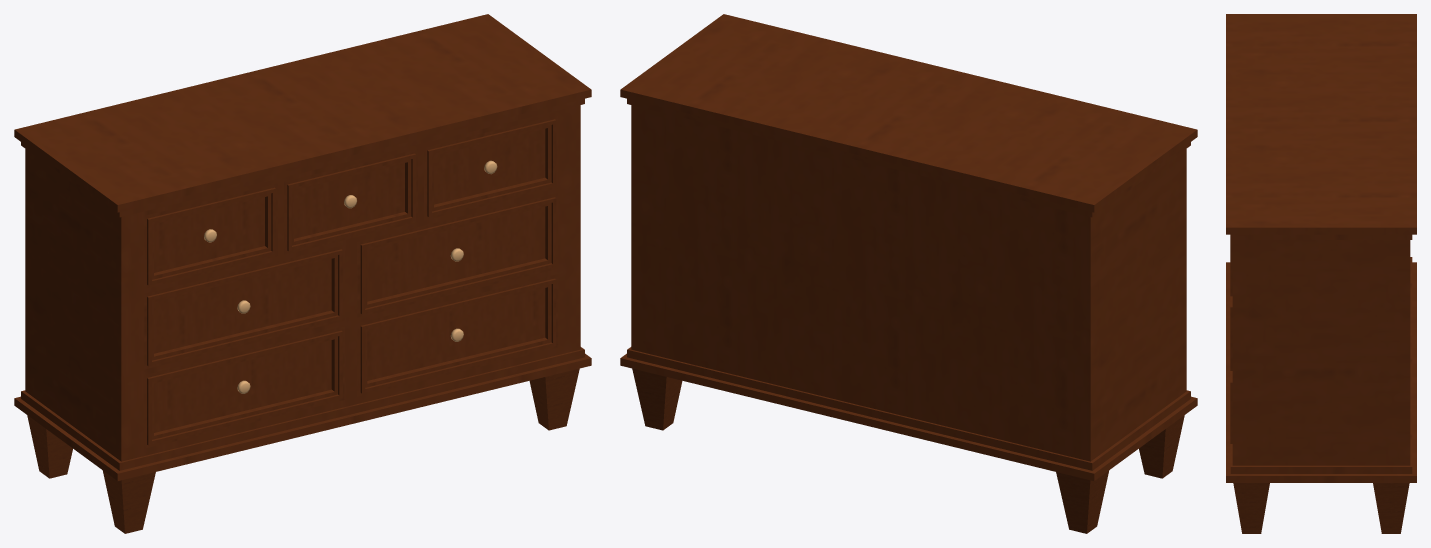
The model's file is Drawer40.fbx.
3 renders of one model, left to right at view 1: azimuth 30°, elevation 25°; view 2: azimuth 150°, elevation 25°; view 3: azimuth 270°, elevation 25°, orthographic. The views are drawn at different scales.
Visible parts, largest first — view 1: Drawer40_Body, Drawer40_4, Drawer40_5, Drawer40_6, Drawer40_7, Drawer40_3, Drawer40_1, Drawer40_2; view 2: Drawer40_Body; view 3: Drawer40_Body.
Boxes of the visible parts, box(x1,y1,x2,y2) form: Drawer40_Body: box(14, 14, 591, 533); Drawer40_4: box(143, 245, 344, 369); Drawer40_5: box(357, 193, 558, 317); Drawer40_6: box(143, 326, 344, 448); Drawer40_7: box(357, 274, 558, 396); Drawer40_3: box(424, 115, 558, 220); Drawer40_1: box(143, 183, 277, 288); Drawer40_2: box(284, 149, 417, 254); Drawer40_Body: box(620, 14, 1197, 533); Drawer40_Body: box(1226, 14, 1416, 533).
Bounding box in the file's own units: 157 × 107 × 59.27.
